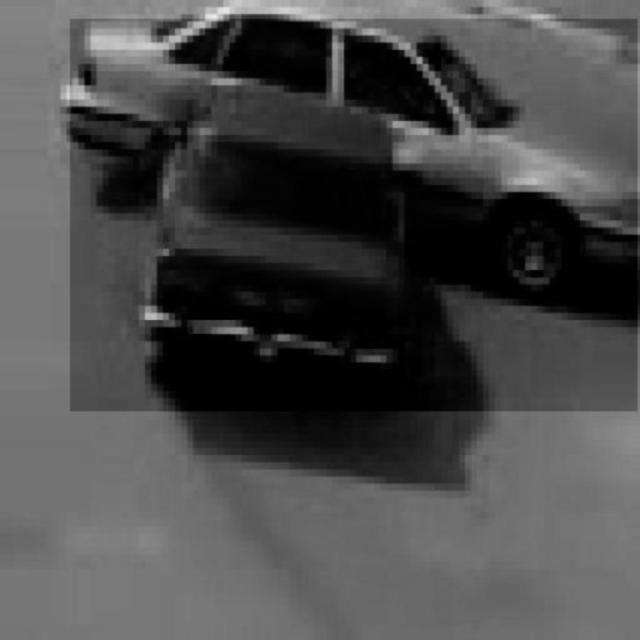accident: (70, 19, 638, 411)
